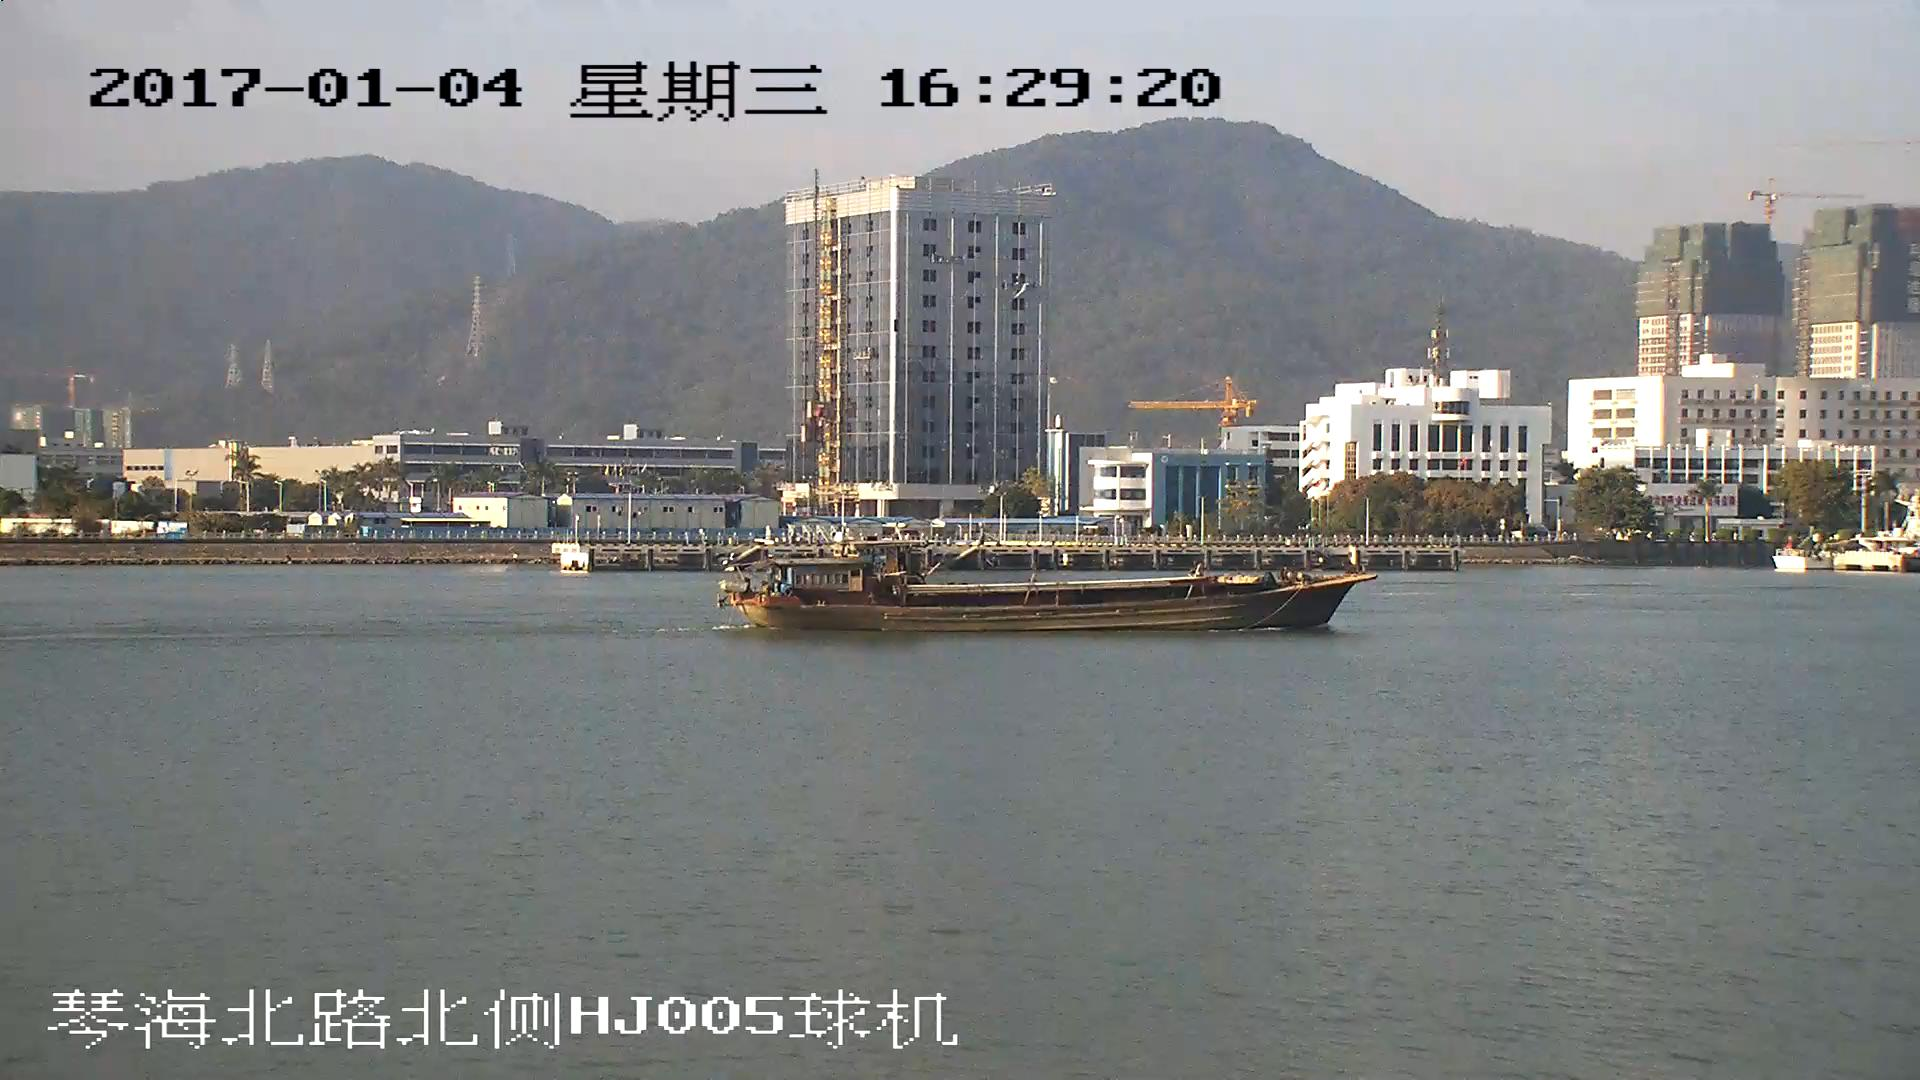bulk cargo carrier: (726, 538, 1374, 633)
